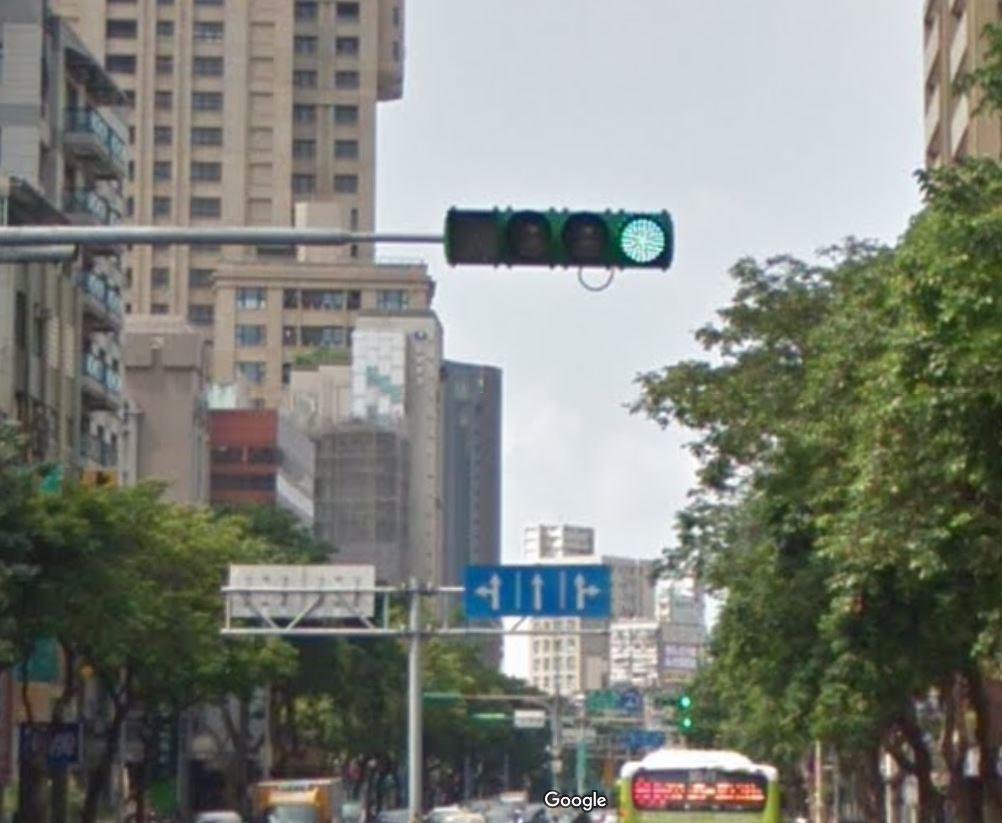green_traffic_light: (449, 203, 677, 275)
